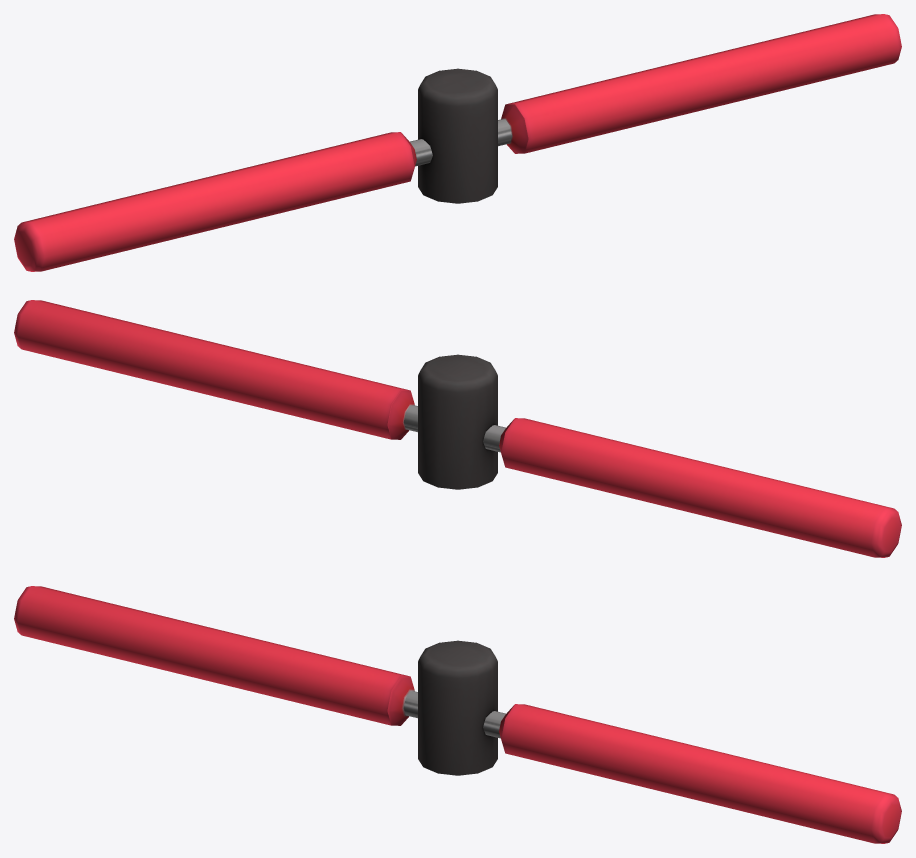
Rendered from Spinner.fbx.
3 views of the same model, one above another, from view 1: azimuth 30°, elevation 25°; view 2: azimuth 150°, elevation 25°; view 3: azimuth 330°, elevation 25° (orthographic).
Parts seen in each view (by area): view 1: Cylinder.011, Cylinder; view 2: Cylinder.011, Cylinder; view 3: Cylinder.011, Cylinder.
Boxes of the visible parts, x1,y1,x2,y2 form: Cylinder.011: [14, 14, 901, 271]; Cylinder: [418, 68, 497, 203]; Cylinder.011: [14, 300, 901, 557]; Cylinder: [418, 354, 497, 489]; Cylinder.011: [14, 586, 901, 843]; Cylinder: [418, 640, 497, 775].
Size of the model in its own units: 1200 by 138 by 96.
